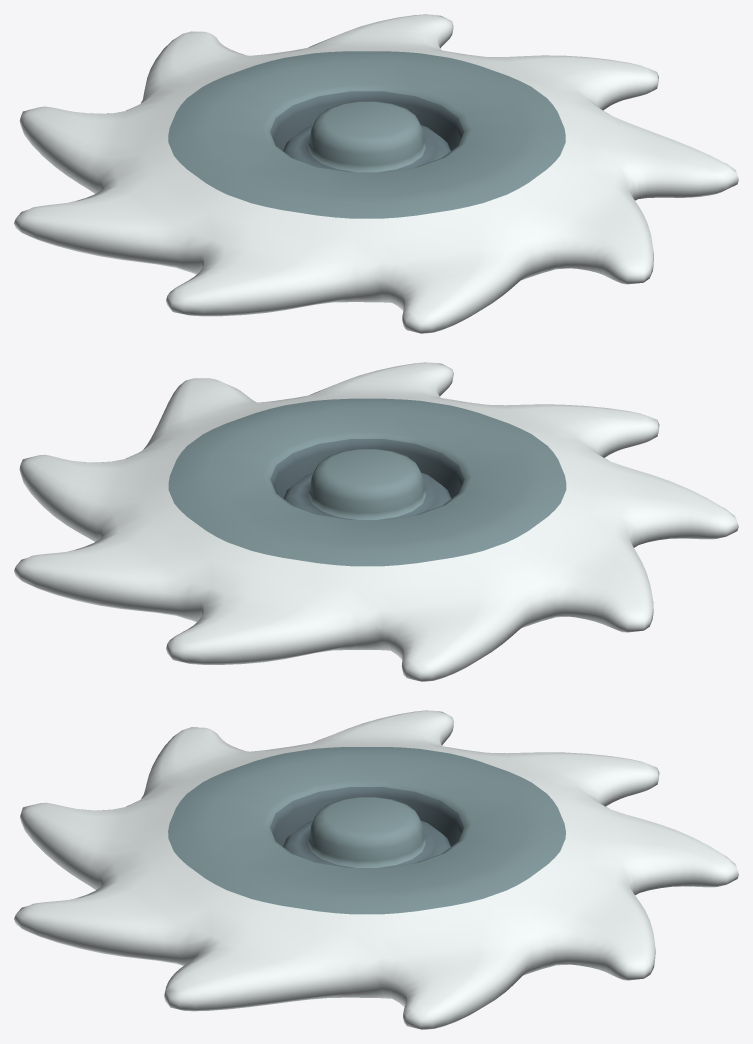
File: Saw.fbx
The picture shows the model from 3 angles, top to bottom: view 1: azimuth 30°, elevation 25°; view 2: azimuth 150°, elevation 25°; view 3: azimuth 270°, elevation 25°; orthographic projection.
Parts seen in each view (by area): view 1: Circle.149; view 2: Circle.149; view 3: Circle.149.
Boxes of the visible parts, x1,y1,x2,y2 form: Circle.149: (14, 14, 738, 333); Circle.149: (14, 362, 738, 681); Circle.149: (14, 710, 738, 1029).
Bounding box in the file's own units: 0.4885 × 0.0804 × 0.4837.
